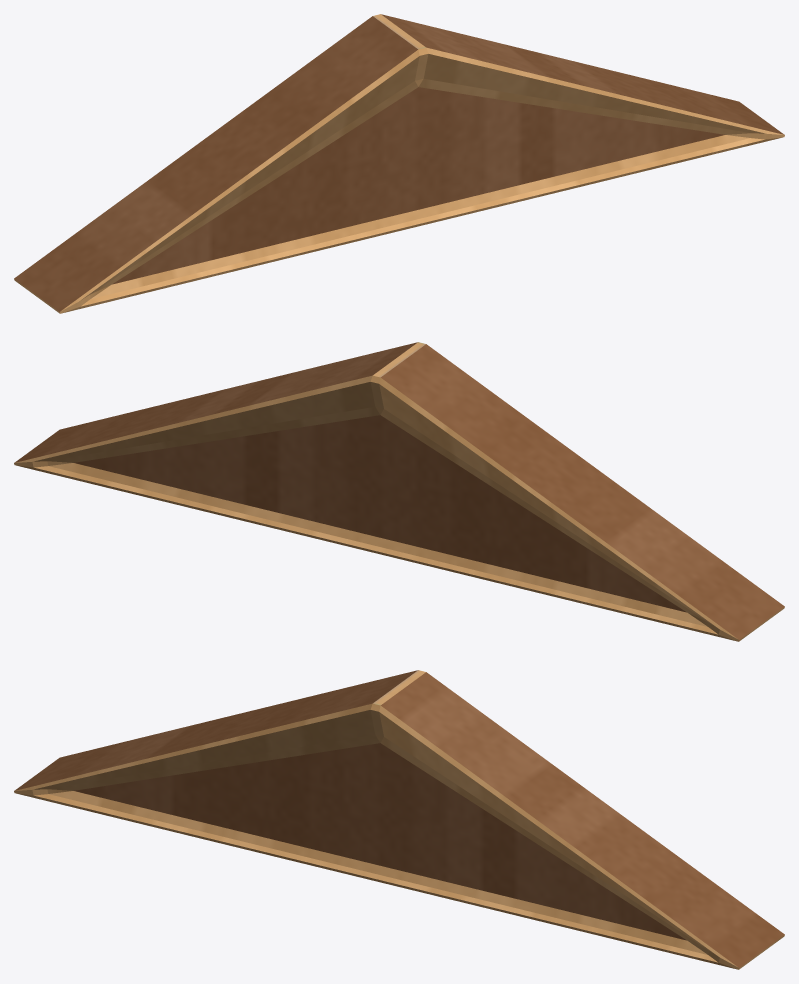
The model's file is sm_farm_roof_gable.glb.
3 renders of one model, top to bottom at view 1: azimuth 30°, elevation 25°; view 2: azimuth 150°, elevation 25°; view 3: azimuth 330°, elevation 25°, orthographic.
Visible parts, largest first — view 1: sm_farm_roof_gable; view 2: sm_farm_roof_gable; view 3: sm_farm_roof_gable.
Part boxes in pixels (x1,y1,x2,y2): sm_farm_roof_gable: (14, 14, 784, 313); sm_farm_roof_gable: (14, 342, 784, 641); sm_farm_roof_gable: (14, 670, 784, 969).
Size of the model in its own units: 0.9891 by 0.2306 by 0.1162.
1 material, 1 textured.
